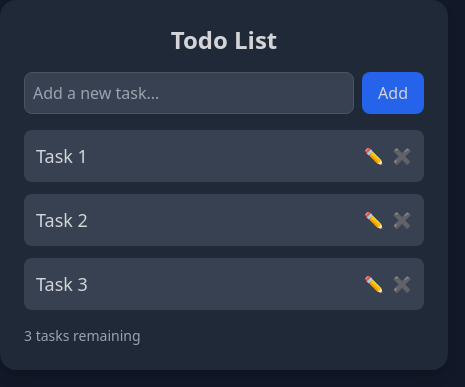
delete task will delete the task and remove it from render
The image size is (465, 387).
Check: the text "Task 1" is shown, box [36, 142, 88, 170]
Click the button with test id "delete-button-1" at x=402, y=156, box [392, 144, 412, 168]
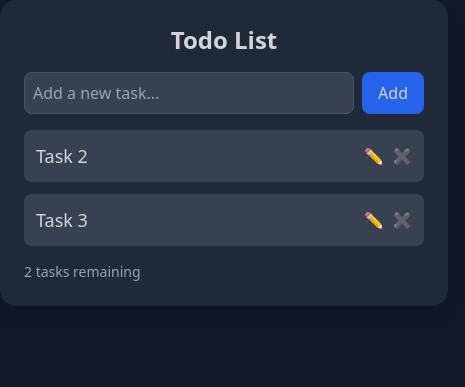
Check: the text "Task 1" is gone
